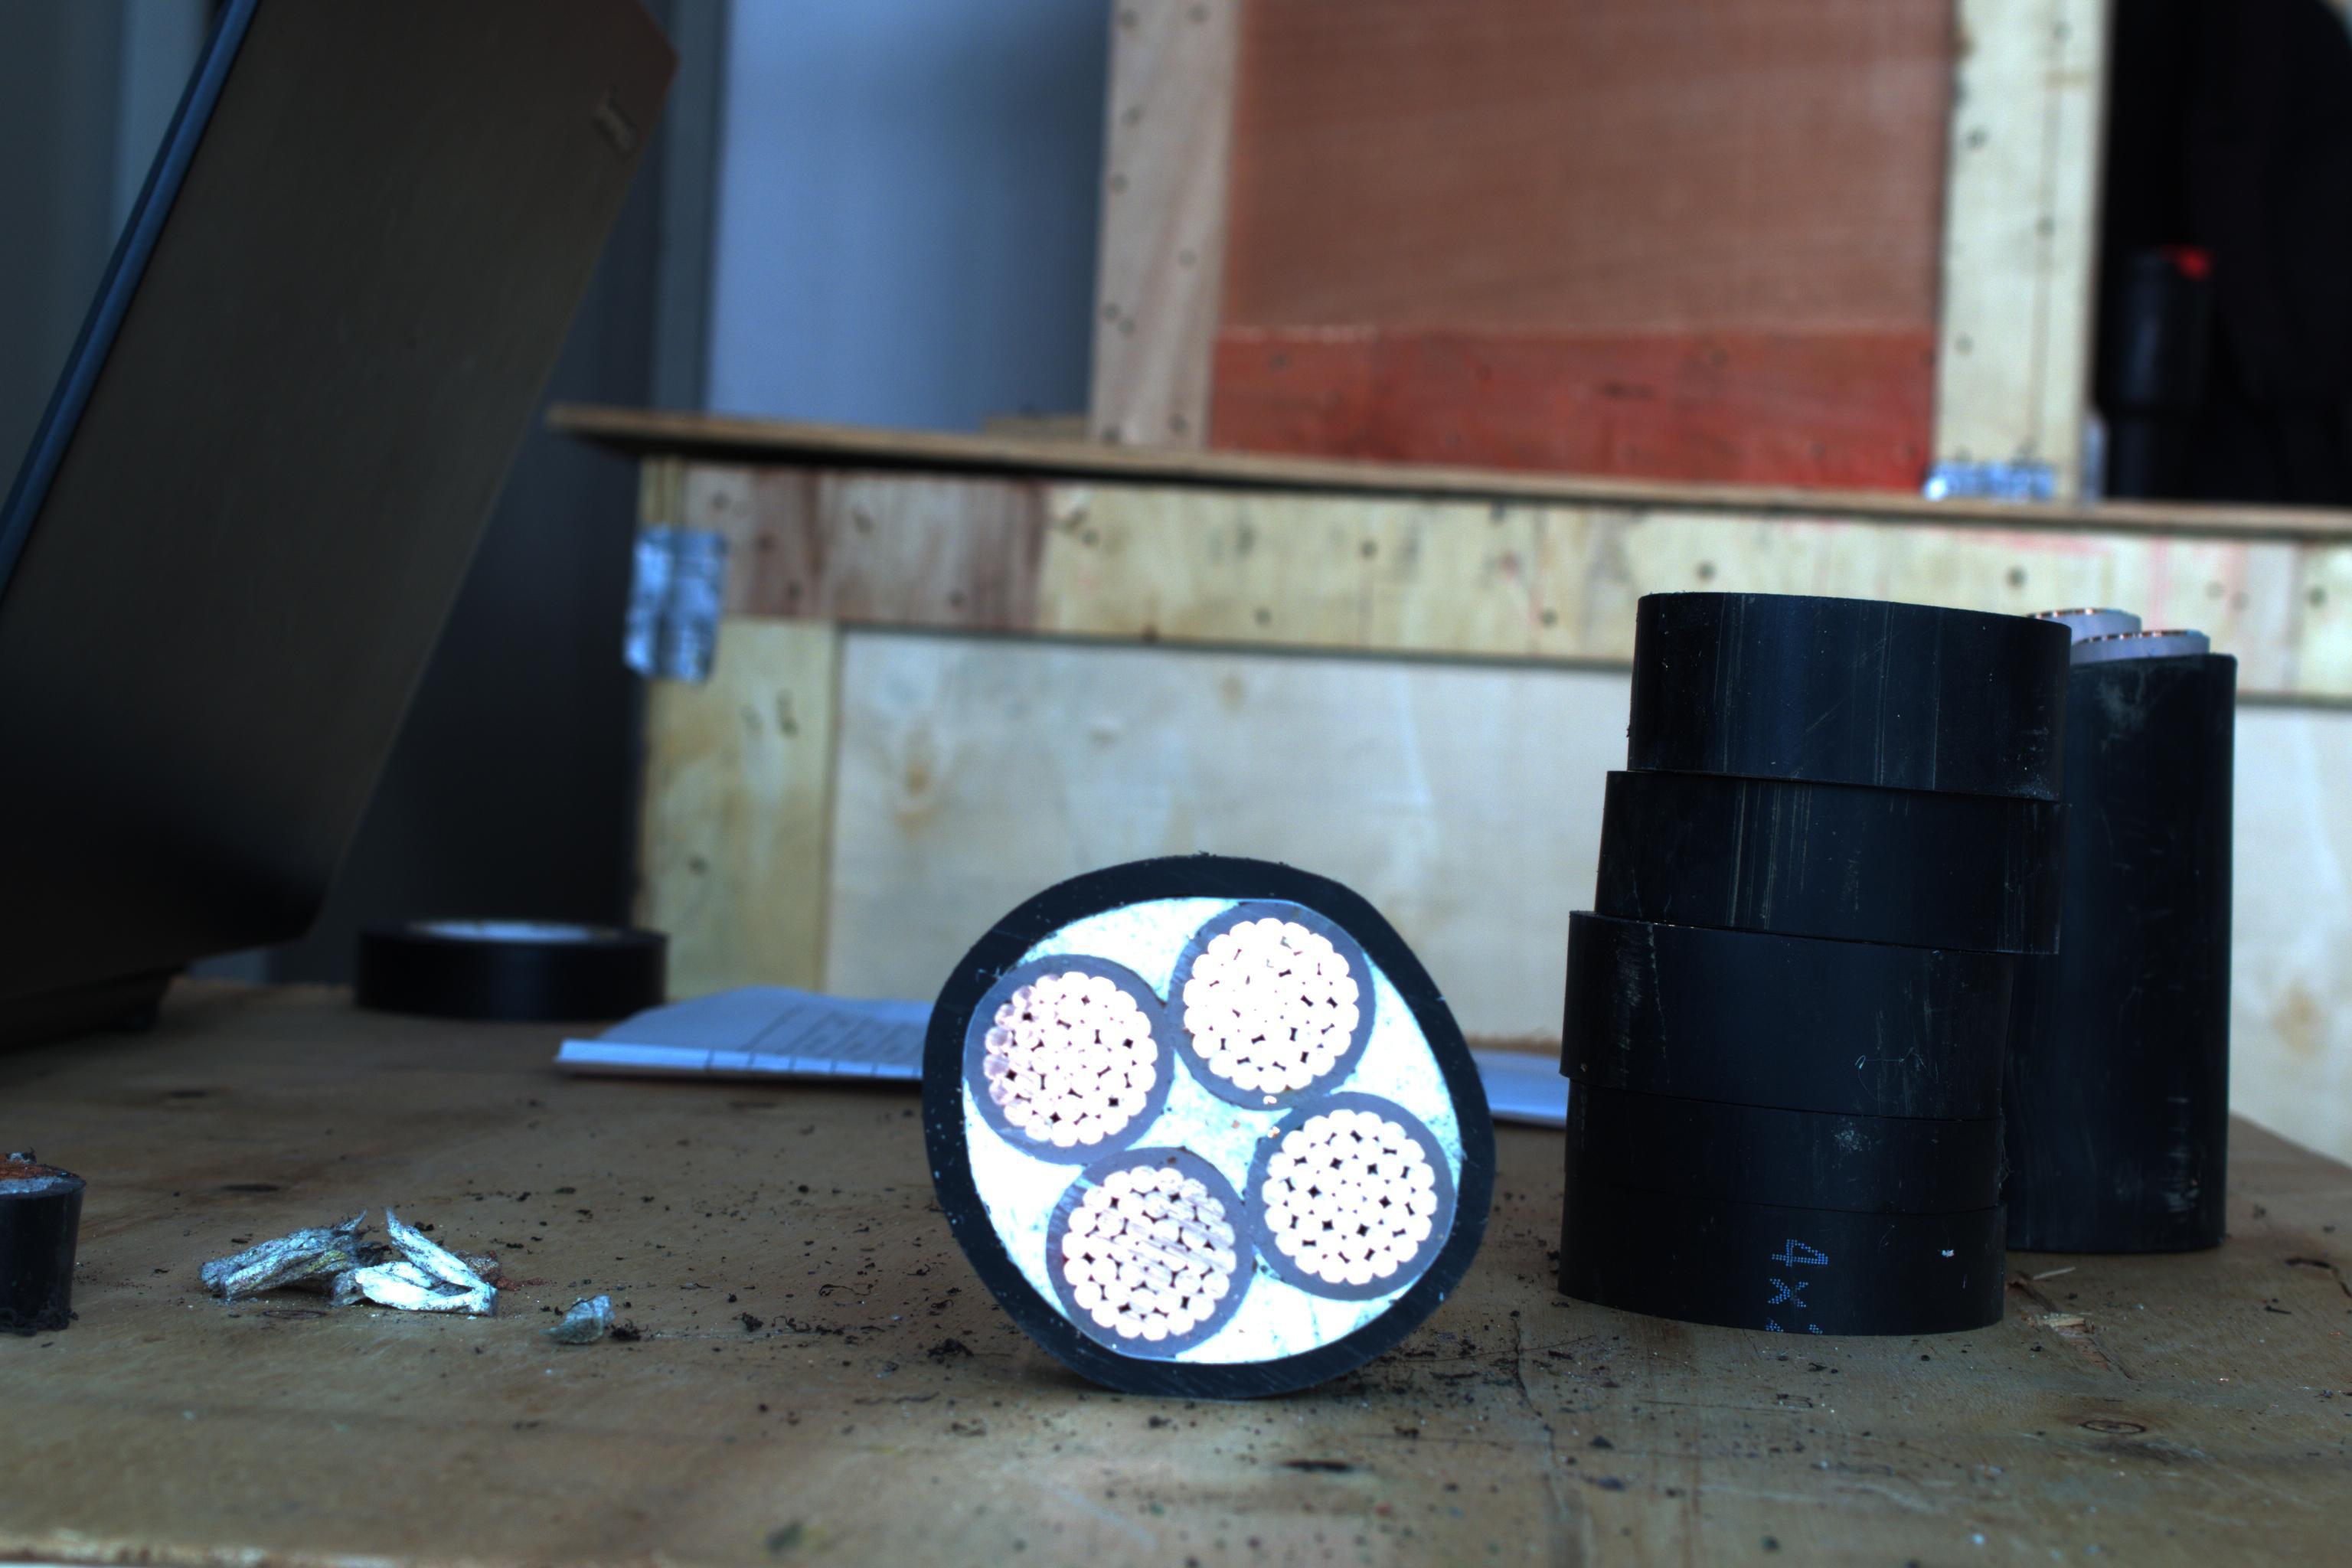YJV_0.6_1kV_4x240: (933, 849, 1479, 1402)
